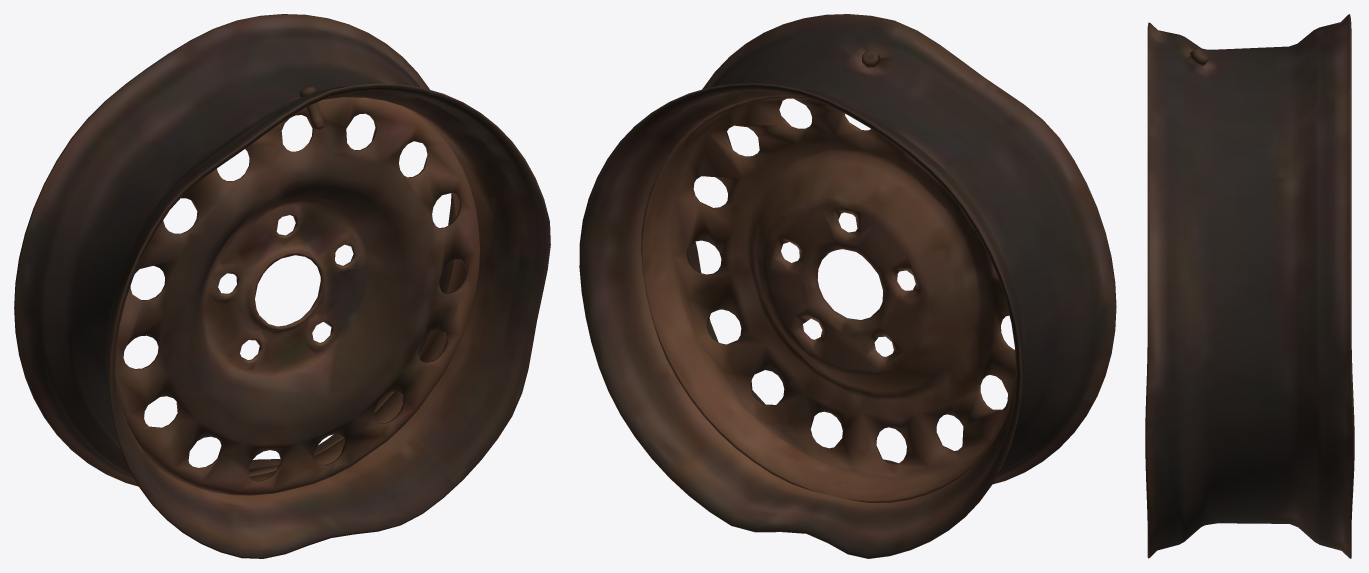
The model's file is rusted_wheel_rim_01_lod1.glb.
The picture shows the model from 3 angles, left to right: view 1: azimuth 30°, elevation 25°; view 2: azimuth 150°, elevation 25°; view 3: azimuth 270°, elevation 25°; orthographic projection. The views are drawn at different scales.
Visible parts, largest first — view 1: rusted_wheel_rim_01; view 2: rusted_wheel_rim_01; view 3: rusted_wheel_rim_01.
Boxes of the visible parts, x1,y1,x2,y2 form: rusted_wheel_rim_01: (14, 14, 550, 558); rusted_wheel_rim_01: (579, 14, 1116, 558); rusted_wheel_rim_01: (1145, 14, 1354, 558).
Size of the model in its own units: 0.4029 by 0.3955 by 0.1541.
1 material, 1 textured.
